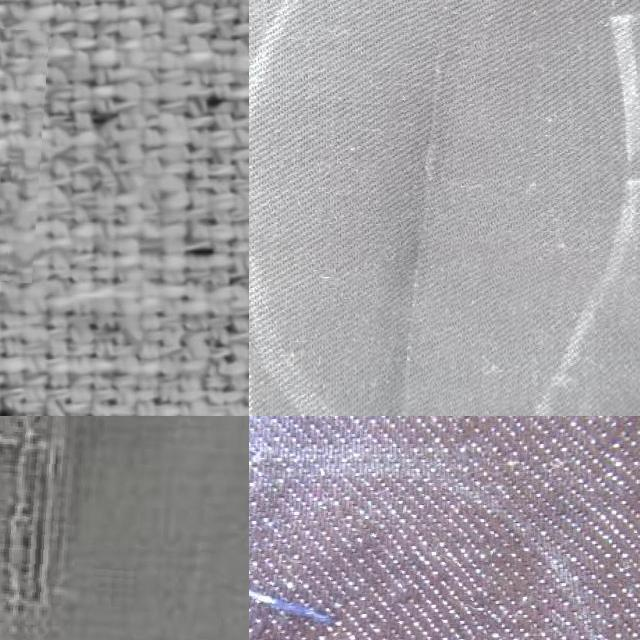Thread_other: (377, 0, 542, 416), (0, 416, 249, 640), (249, 511, 489, 640)
